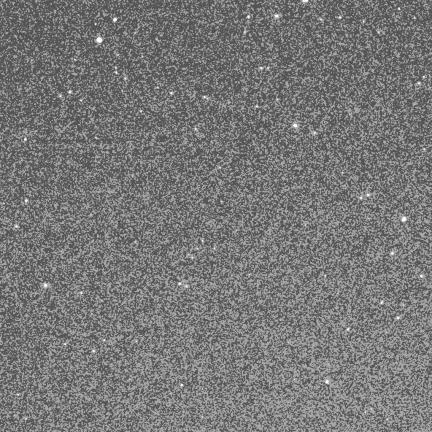blob: (97, 37, 103, 44), (68, 90, 73, 95), (402, 217, 406, 222), (326, 380, 330, 385), (275, 14, 279, 18), (420, 275, 424, 279), (247, 15, 251, 19), (25, 199, 29, 203), (391, 252, 395, 256), (113, 18, 117, 22), (381, 301, 384, 305), (24, 138, 27, 142), (293, 124, 297, 127), (170, 92, 174, 95), (339, 16, 342, 20), (92, 350, 96, 353), (303, 0, 308, 2), (314, 132, 317, 135), (44, 284, 47, 287), (179, 283, 182, 286), (347, 328, 350, 331), (260, 67, 263, 70), (423, 76, 426, 79), (397, 317, 400, 320), (15, 225, 18, 228), (367, 194, 370, 197), (398, 8, 401, 11), (256, 105, 259, 108), (64, 343, 67, 346), (360, 197, 363, 200), (81, 292, 83, 295)
